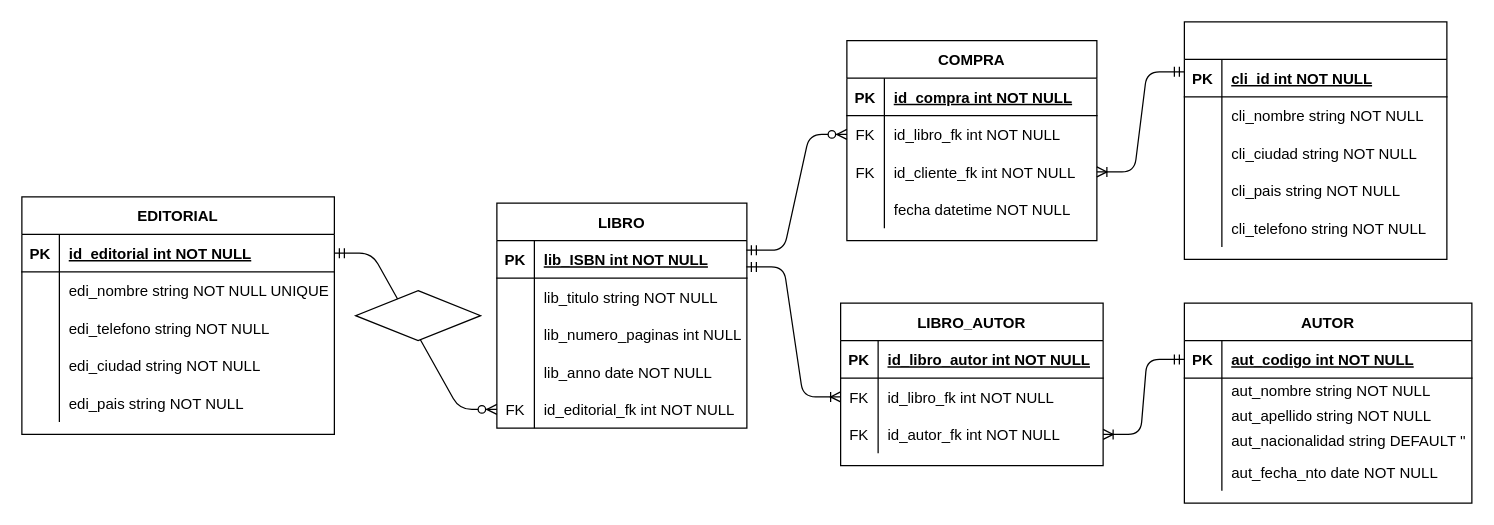
The diagram is 1494 pixels wide and 525 high, and some of its shapes have lost their labels. Each missing label, with the box of its shape:
CLIENTE: (1183, 21, 1447, 259)
publica: (354, 289, 481, 341)
